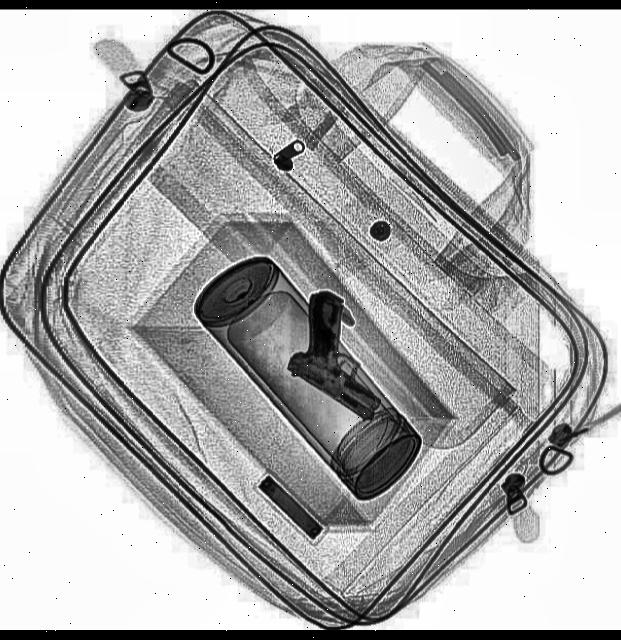Gun: (270, 283, 411, 422)
